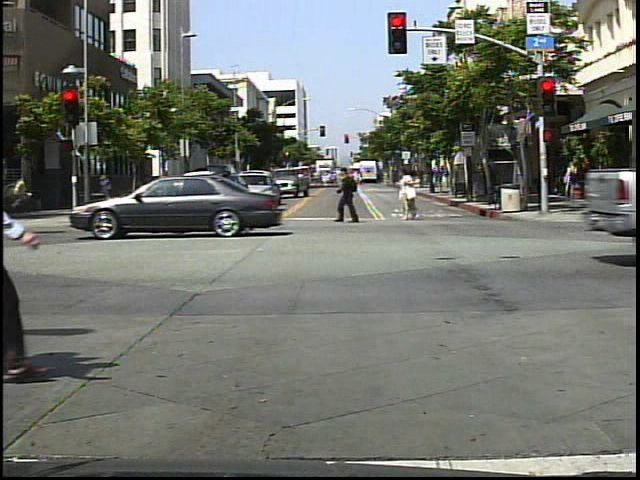person: (208, 167, 241, 227), (396, 163, 428, 224), (340, 162, 367, 228), (562, 159, 584, 209)
